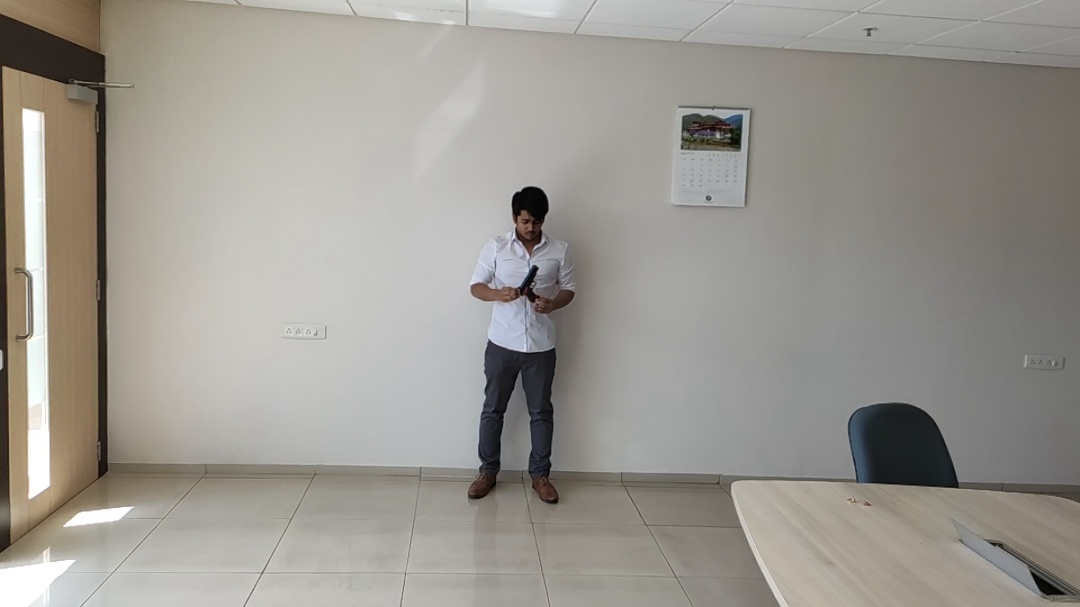gun: (519, 264, 540, 303)
